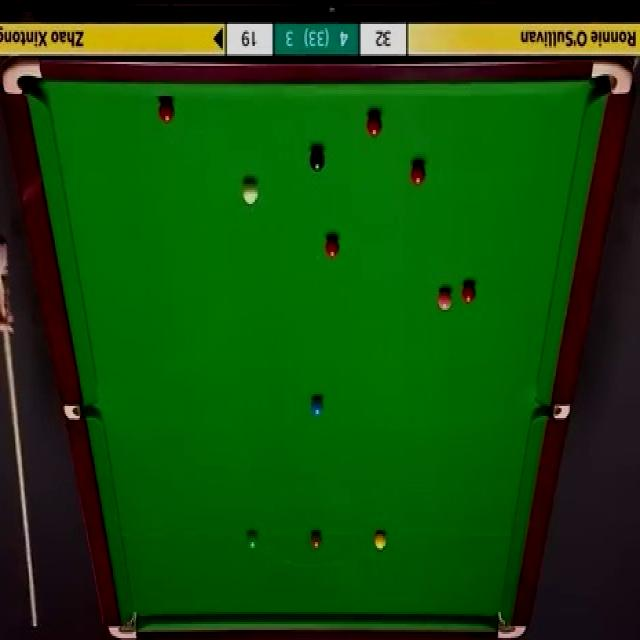pocket: (1, 58, 46, 97), (591, 58, 634, 97), (495, 606, 528, 640), (110, 608, 141, 640), (64, 400, 101, 422), (535, 405, 573, 420)
